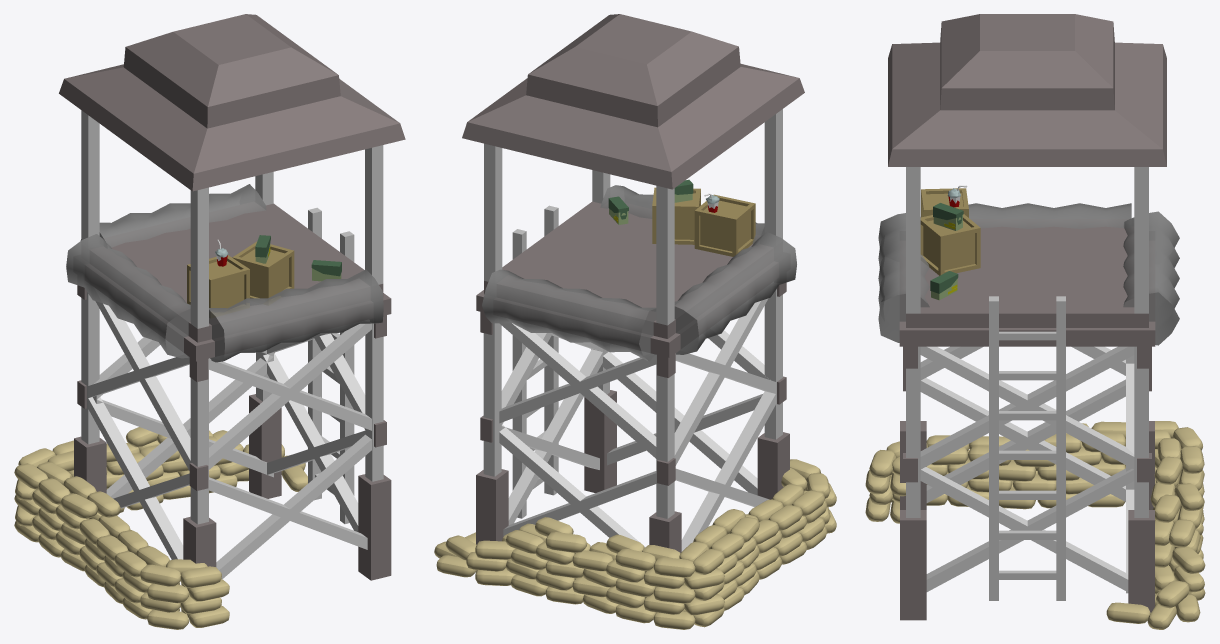
The model's file is Prop_GuardTower_Mod_03.fbx.
The picture shows the model from 3 angles, left to right: view 1: azimuth 30°, elevation 25°; view 2: azimuth 150°, elevation 25°; view 3: azimuth 270°, elevation 25°; orthographic projection. The views are drawn at different scales.
Visible parts, largest first — view 1: GuardTower, Sandbags, Crate, Crate1, AmmoBox5; view 2: GuardTower, Sandbags, Crate1, Crate; view 3: GuardTower, Sandbags, Crate, Crate1, AmmoBox4, AmmoBox5.
Part boxes in pixels (x1,y1,x2,y2): GuardTower: (59,14,405,580); Sandbags: (14,427,307,629); Crate: (232,241,294,305); Crate1: (187,255,249,317); AmmoBox5: (311,260,341,281); GuardTower: (462,14,804,552); Sandbags: (434,459,836,629); Crate1: (694,194,755,256); Crate: (652,187,700,244); GuardTower: (878,14,1179,620); Sandbags: (865,421,1205,629); Crate: (920,214,980,275); Crate1: (921,188,968,217); AmmoBox4: (933,203,963,230); AmmoBox5: (930,271,958,300).
Bounding box in the file's own units: 17.54 × 29.9 × 17.13.
